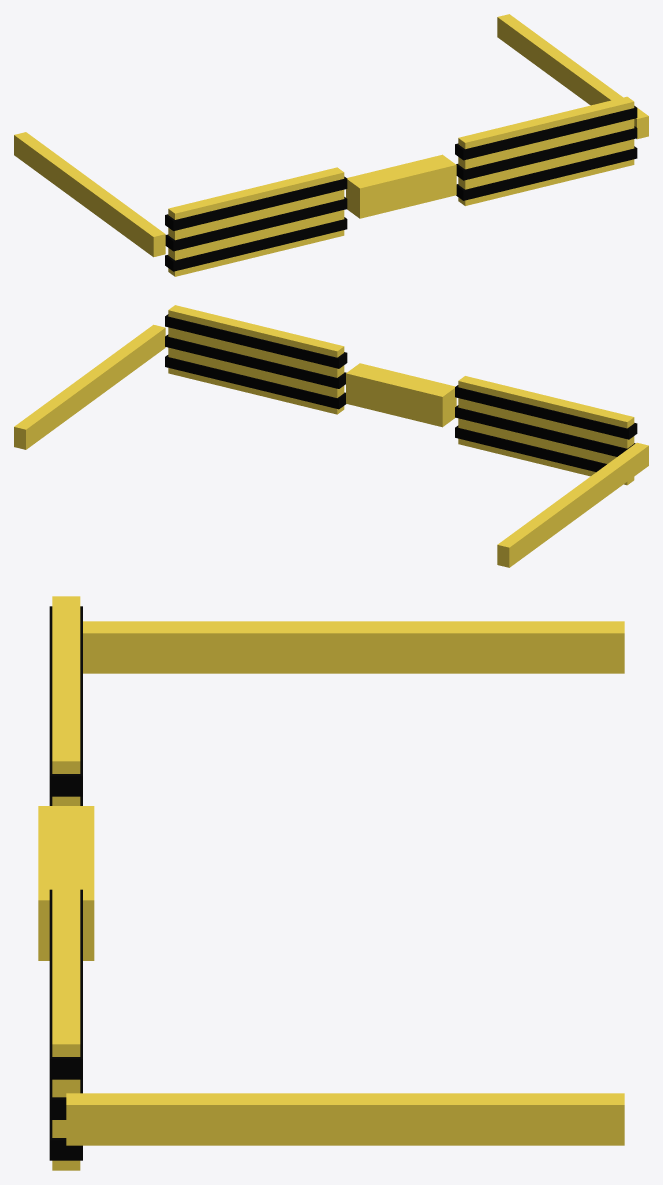
The model's file is shutter.glb.
3 renders of one model, top to bottom at view 1: azimuth 30°, elevation 25°; view 2: azimuth 150°, elevation 25°; view 3: azimuth 270°, elevation 25°, orthographic. The views are drawn at different scales.
Visible parts, largest first — view 1: shutter; view 2: shutter; view 3: shutter.
Boxes of the visible parts, <box> form: shutter: <box>14,14,648,276</box>; shutter: <box>14,305,648,567</box>; shutter: <box>38,596,624,1170</box>.
Size of the model in its own units: 0.205 by 0.025 by 0.105.
